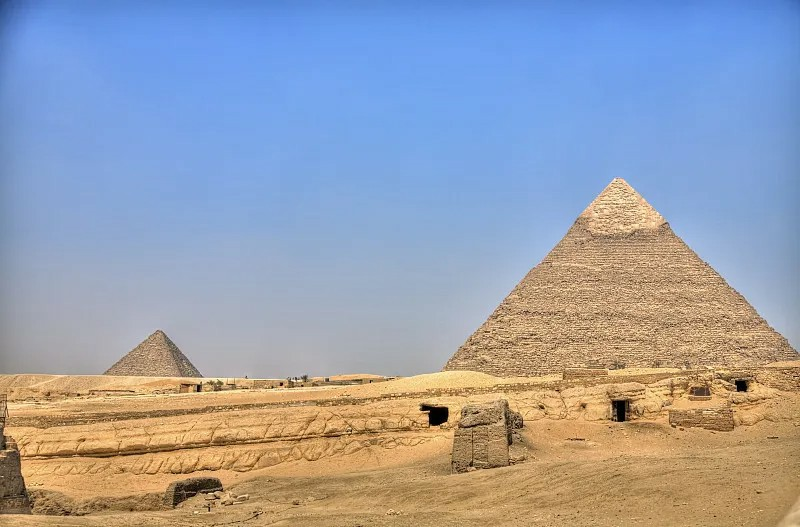Pyramid: (446, 178, 800, 373), (104, 332, 206, 378)
